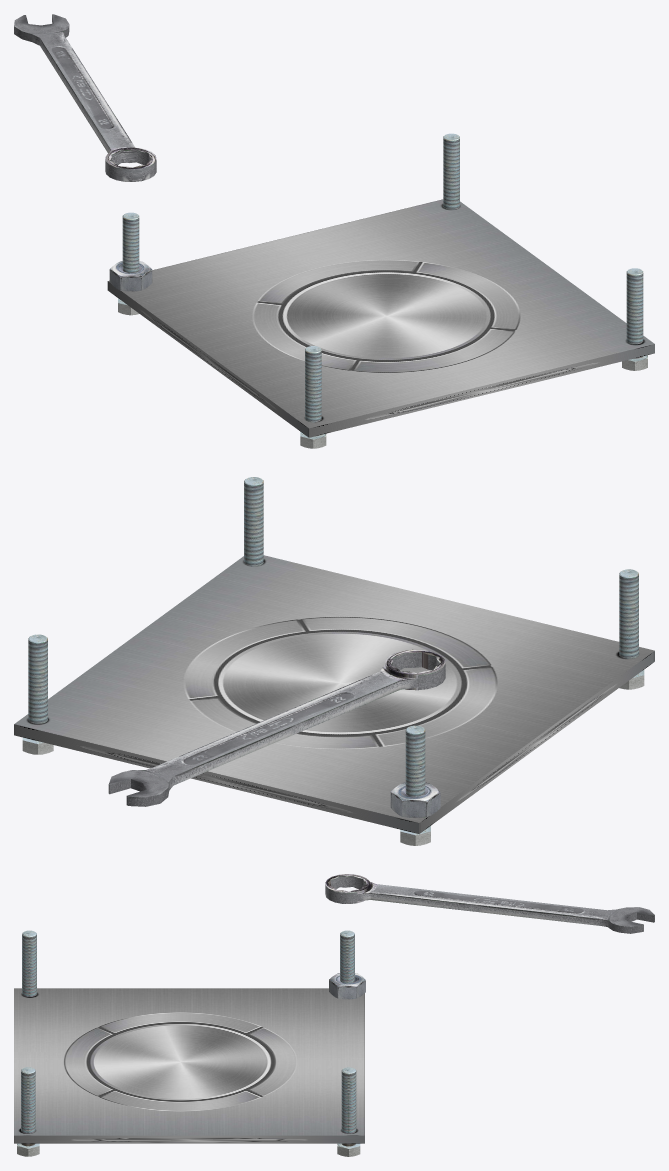
File: spanner.FBX
3 views of the same model, one above another, from view 1: azimuth 30°, elevation 25°; view 2: azimuth 150°, elevation 25°; view 3: azimuth 270°, elevation 25° (orthographic). The views are drawn at different scales.
Visible parts, largest first — view 1: Box001, Object001, Object005, Object003, Object004, Object002, Hexag061; view 2: Box001, Object001, Object004, Object003, Object002, Object005, Hexag061; view 3: Box001, Object001, Object004, Object005, Object003, Object002, Hexag061.
Boxes of the visible parts, x1,y1,x2,y2 form: Box001: (107,199,654,437); Object001: (14,14,156,181); Object005: (622,268,647,370); Object003: (300,346,326,448); Object004: (443,133,459,209); Object002: (118,212,139,315); Hexag061: (109,261,152,291); Box001: (14,555,654,833); Object001: (108,649,445,806); Object004: (22,634,53,754); Object003: (619,569,644,689); Object002: (400,725,430,845); Object005: (244,477,263,566); Hexag061: (390,782,440,817); Box001: (14,988,364,1143); Object001: (325,874,654,933); Object004: (337,1067,360,1156); Object005: (17,1067,39,1156); Object003: (22,930,36,996); Object002: (340,930,354,983); Hexag061: (329,973,365,999).
Size of the model in its own units: 19.81 by 8.01 by 35.34.
